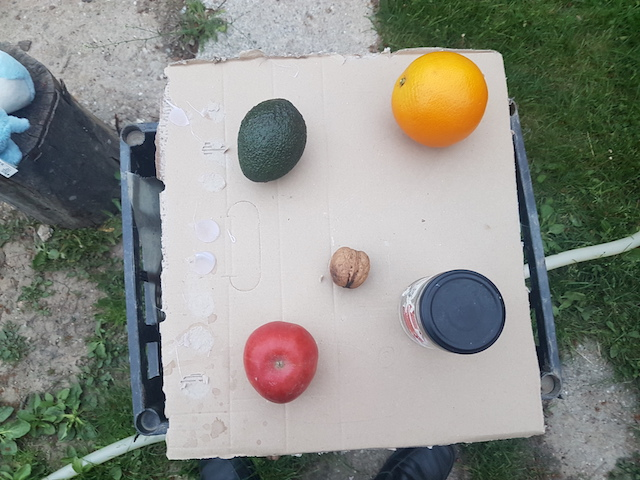apple: (239, 320, 319, 405)
avocado: (231, 93, 311, 185)
nut: (330, 244, 370, 289)
orange: (387, 49, 489, 150)
recipient: (421, 265, 507, 354)
